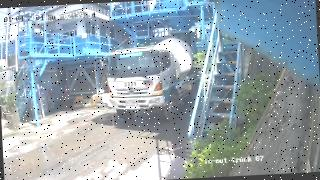cement_mixer_truck: (107, 38, 202, 120)
